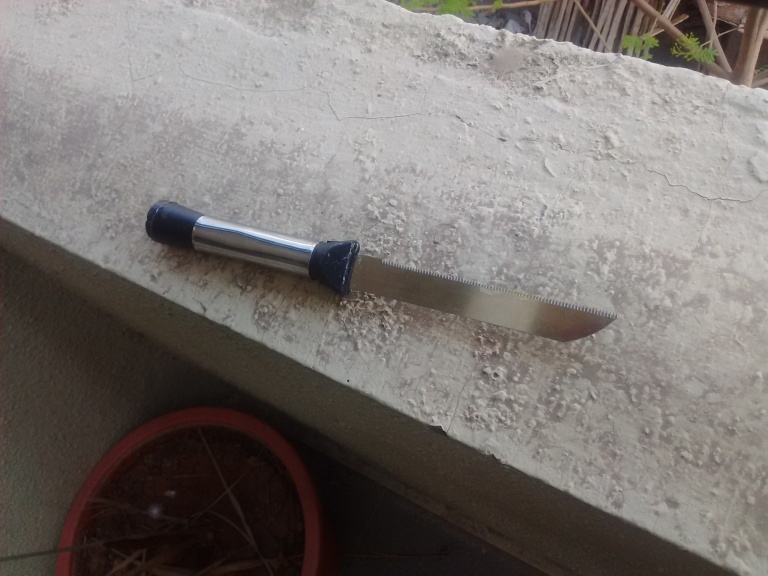knife: (141, 191, 619, 346)
